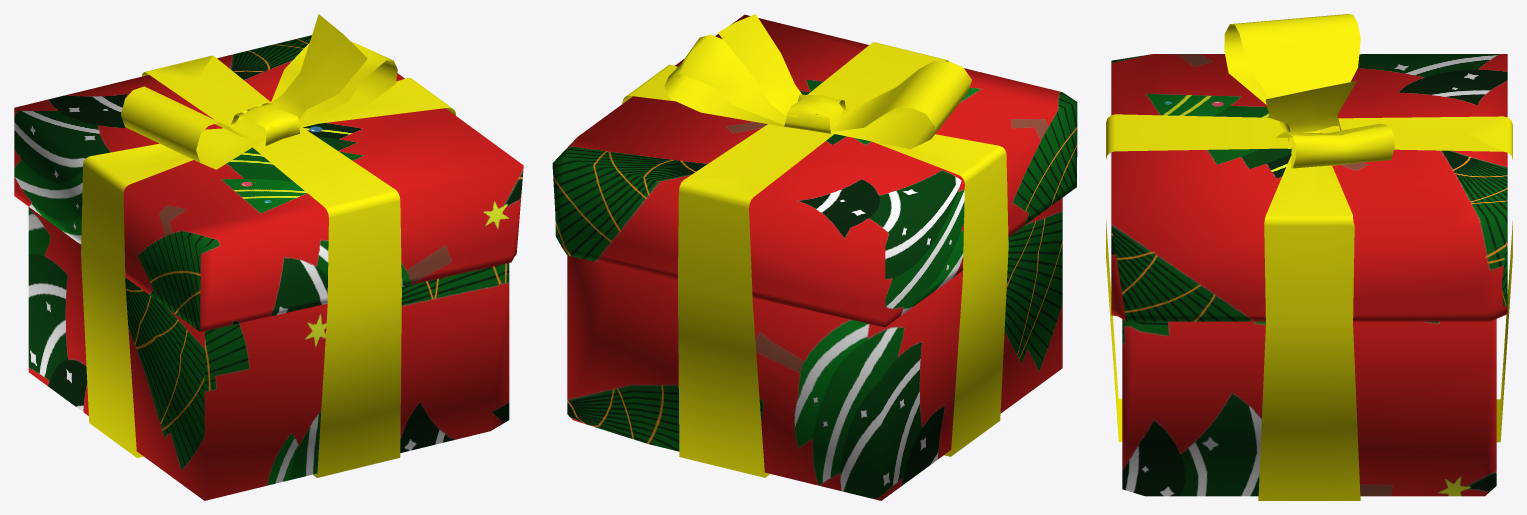
3 views of the same model, side by side, from view 1: azimuth 30°, elevation 25°; view 2: azimuth 150°, elevation 25°; view 3: azimuth 270°, elevation 25° (orthographic). The views are drawn at different scales.
Visible parts, largest first — view 1: box lid, box, gift tape, bow; view 2: box lid, box, gift tape, bow; view 3: box lid, box, gift tape, bow.
Part boxes in pixels (left/top/right/bottom): box lid: left=14, top=35, right=523, bottom=331; box: left=28, top=207, right=509, bottom=500; gift tape: left=81, top=55, right=455, bottom=477; bow: left=121, top=14, right=397, bottom=169; box lid: left=552, top=14, right=1077, bottom=327; box: left=567, top=198, right=1062, bottom=500; gift tape: left=622, top=42, right=1008, bottom=477; bow: left=664, top=14, right=971, bottom=149; box lid: left=1111, top=54, right=1507, bottom=321; box: left=1122, top=319, right=1496, bottom=496; gift tape: left=1106, top=114, right=1512, bottom=500; bow: left=1224, top=14, right=1394, bottom=168.
Size of what is drawn, in the model's own units: 0.8817 by 0.9023 by 0.8817.
2 materials, 1 textured.
